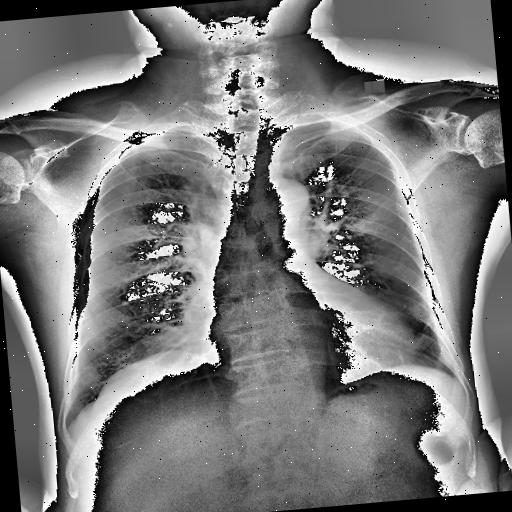0- Aortic enlargement: (247, 174, 312, 232), (261, 175, 311, 218)
11- Pleural thickening: (118, 132, 156, 159)
13- Pulmonary fibrosis: (80, 284, 123, 320)
3- Cardiomegaly: (198, 307, 427, 402), (198, 294, 422, 389), (196, 310, 420, 386)
7- Lung Opacity: (93, 346, 214, 398)
8- Nodule-Mass: (122, 300, 128, 306)
